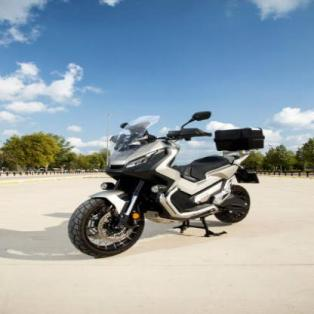Motocicleta: (62, 93, 266, 261)
